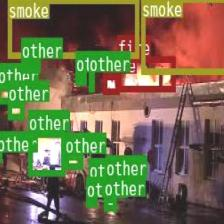fire: (117, 56, 174, 91), (103, 74, 118, 92)
smoke: (7, 0, 138, 57), (140, 0, 224, 73)
